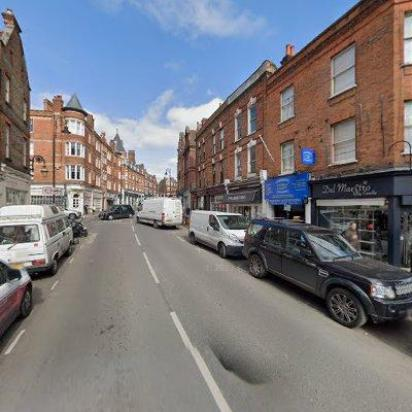moving-car: (97, 204, 134, 221)
moving-light-truck: (136, 196, 182, 230)
stationary-car-onstreet: (244, 217, 412, 333), (0, 256, 34, 342)
stationary-light-truck-onstreet: (0, 204, 74, 278), (187, 209, 247, 259)
stationary-motorcycle-onstreet: (66, 217, 90, 239)
